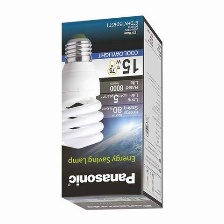carton: (59, 14, 168, 216)
